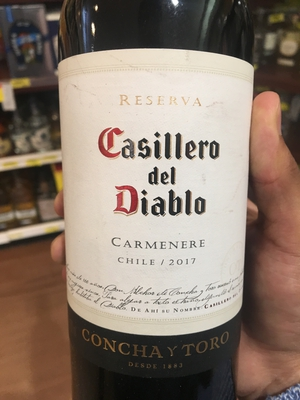casillero del diablo carmenere: (57, 25, 267, 400)
